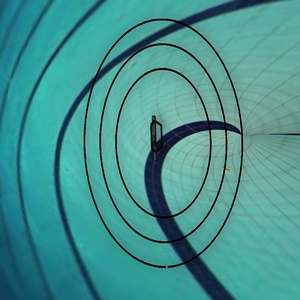circle: (80, 6, 253, 278)
submarine: (134, 111, 178, 164)
